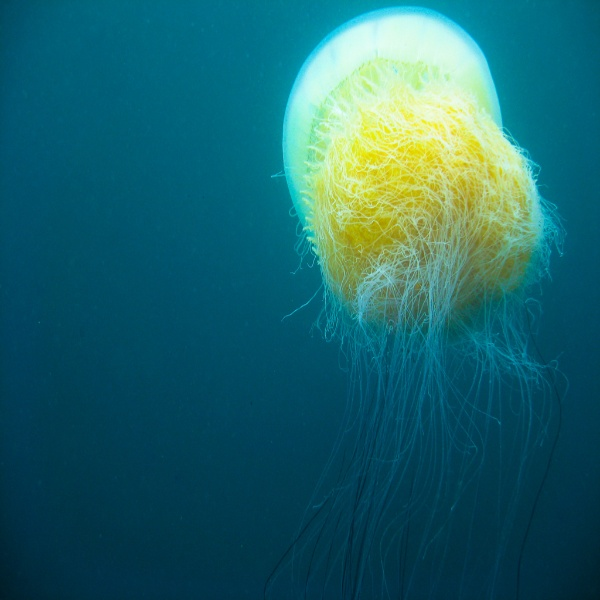Jellyfish: (260, 4, 572, 598)
